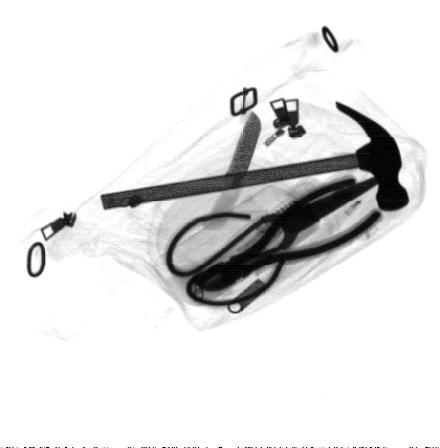Hammer: (98, 100, 410, 213)
Knife: (199, 111, 262, 231)
Pliers: (194, 175, 385, 294)
Scissors: (162, 173, 386, 308)
